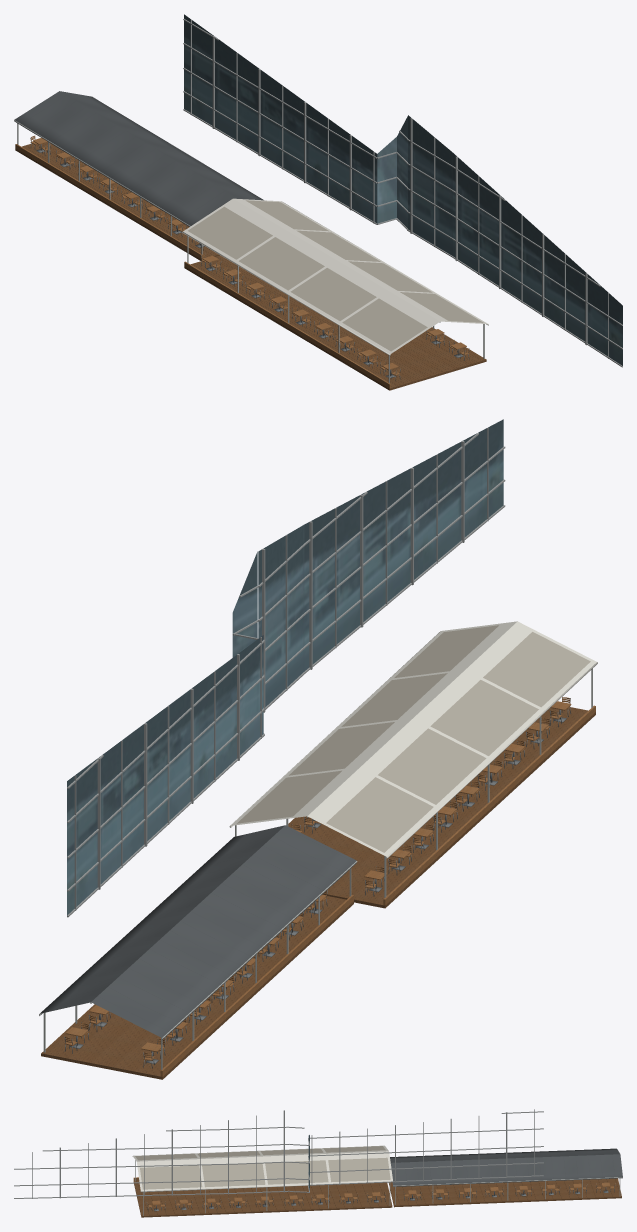
3 views of the same model, one above another, from view 1: azimuth 30°, elevation 25°; view 2: azimuth 150°, elevation 25°; view 3: azimuth 270°, elevation 25° (orthographic). The views are drawn at different scales.
Visible parts, largest first — view 1: One Fullerton laminated glazing, Roof infill, Charcoal, Deck, Anodised glazing bars, Pale roof trim, Teak, Metal, Canopy frame; view 2: One Fullerton laminated glazing, Charcoal, Roof infill, Deck, Anodised glazing bars, Pale roof trim, Teak, Metal, Canopy frame; view 3: Deck, Charcoal, Roof infill, Anodised glazing bars, Pale roof trim, Teak, Metal, Canopy frame.
Boxes of the visible parts, x1,y1,x2,y2 form: One Fullerton laminated glazing: (184,14,622,365); Roof infill: (188,200,483,351); Charcoal: (14,91,263,226); Deck: (15,142,486,390); Anodised glazing bars: (183,19,622,367); Pale roof trim: (182,198,488,355); Teak: (15,136,469,388); Metal: (30,137,469,380); Canopy frame: (14,120,484,383); One Fullerton laminated glazing: (67,419,503,917); Charcoal: (39,825,356,1039); Roof infill: (237,625,590,852); Deck: (41,707,595,1079); Anodised glazing bars: (67,427,505,917); Pale roof trim: (229,621,597,858); Teak: (64,697,595,1076); Metal: (64,697,570,1068); Canopy frame: (39,668,592,1069); Deck: (133,1178,621,1217); Charcoal: (390,1148,622,1186); Roof infill: (135,1146,390,1189); Anodised glazing bars: (14,1109,543,1198); Pale roof trim: (132,1145,392,1192); Teak: (133,1177,615,1207); Metal: (146,1183,615,1211); Canopy frame: (135,1160,622,1215).
Size of the model in its own units: 14.16 by 12.06 by 57.1.
9 materials, 4 textured.
